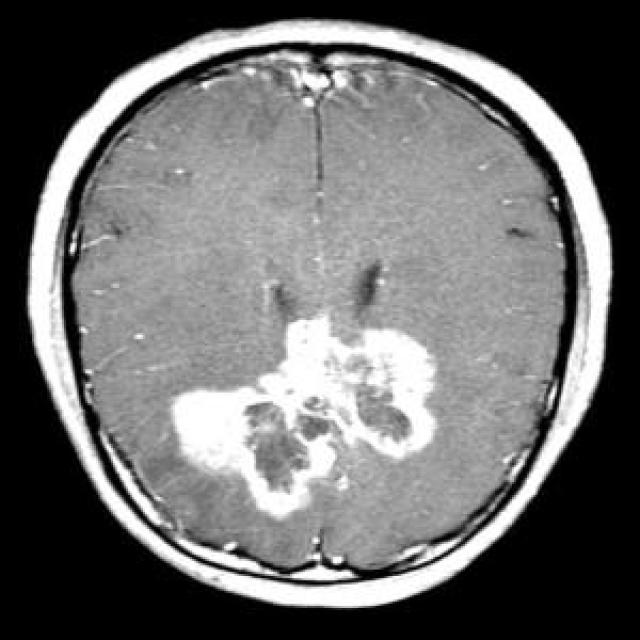Tumor: (174, 383, 315, 522), (320, 317, 446, 462)
